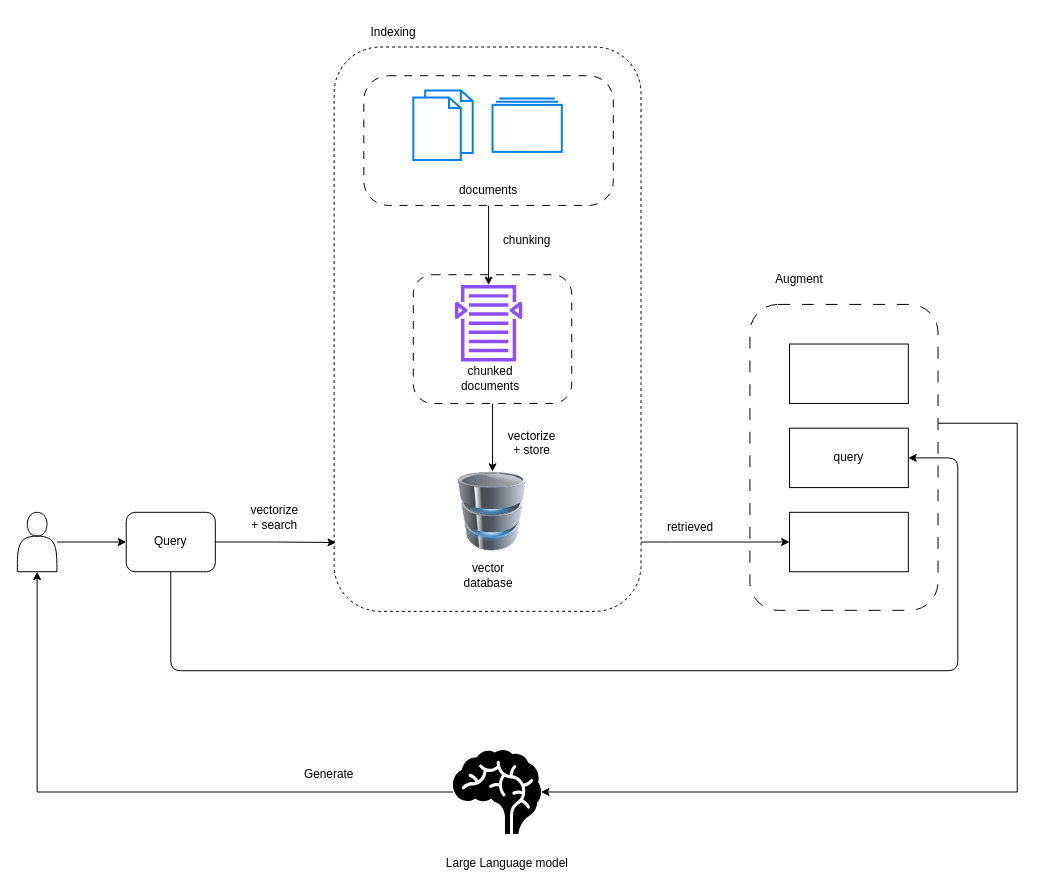
Some shapes in this 1042 by 895 pixel diagram are drawn without their labels. Here are the shapes that lost their labels. From the top down, the centre of each, then its label:
At point 848,373: "promts".
At point 848,541: "retrieved context".
